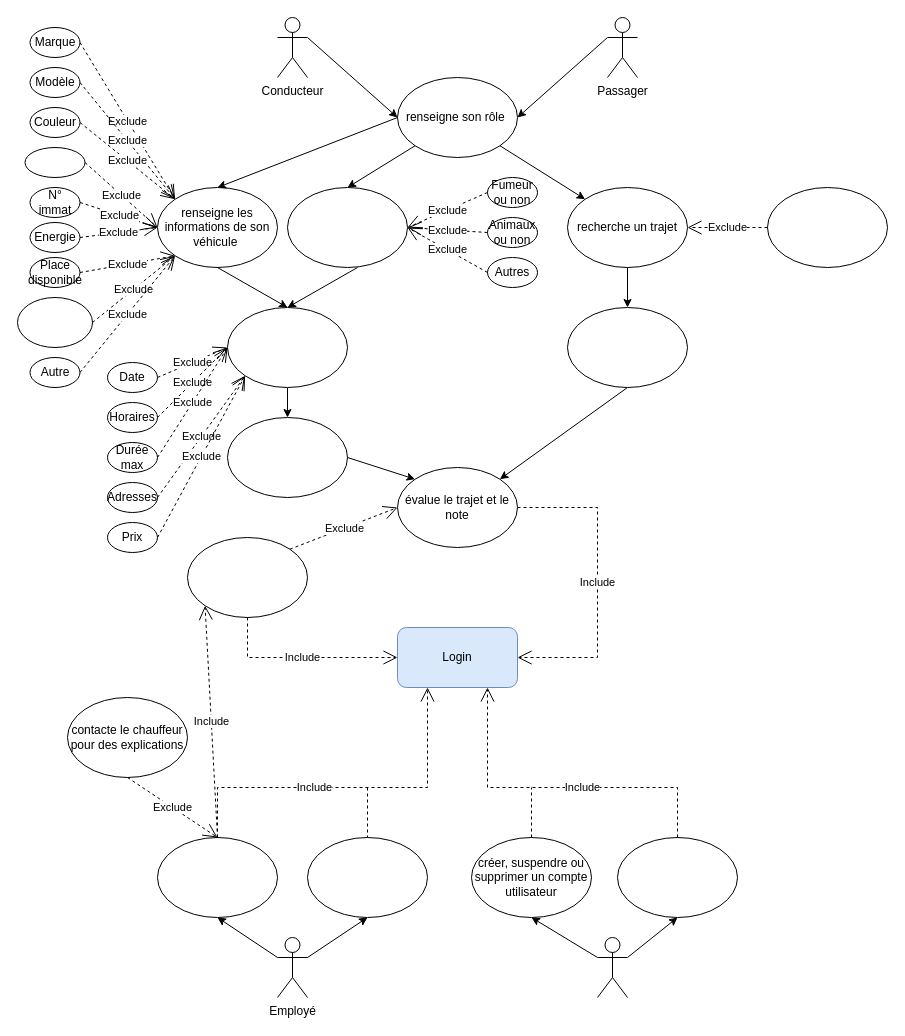
The diagram is 905 pixels wide and 1036 high, and some of its shapes have lost their labels. The box of each missing label's shape, as (x1, y1, x2, y2) in pixels:
Administrateur: (596, 936, 628, 998)
appui sur le bouton démarrer puis arrêter le trajet: (226, 416, 348, 498)
Date 1ère immat: (24, 146, 85, 178)
donne des explications si le trajet c'est mal passé: (186, 536, 308, 618)
filtre les paramètres du trajet: (766, 186, 888, 268)
modère les évaluations: (306, 836, 428, 918)
propose un trajet: (226, 306, 348, 388)
renseigne ses préférences: (286, 186, 408, 268)
réserve un trajet: (566, 306, 688, 388)
visionne les covoiturages qui se sont mal passés: (156, 836, 278, 918)
visionne les graphiques: (616, 836, 738, 918)
Véhicule électrique ou non: (16, 296, 92, 348)
